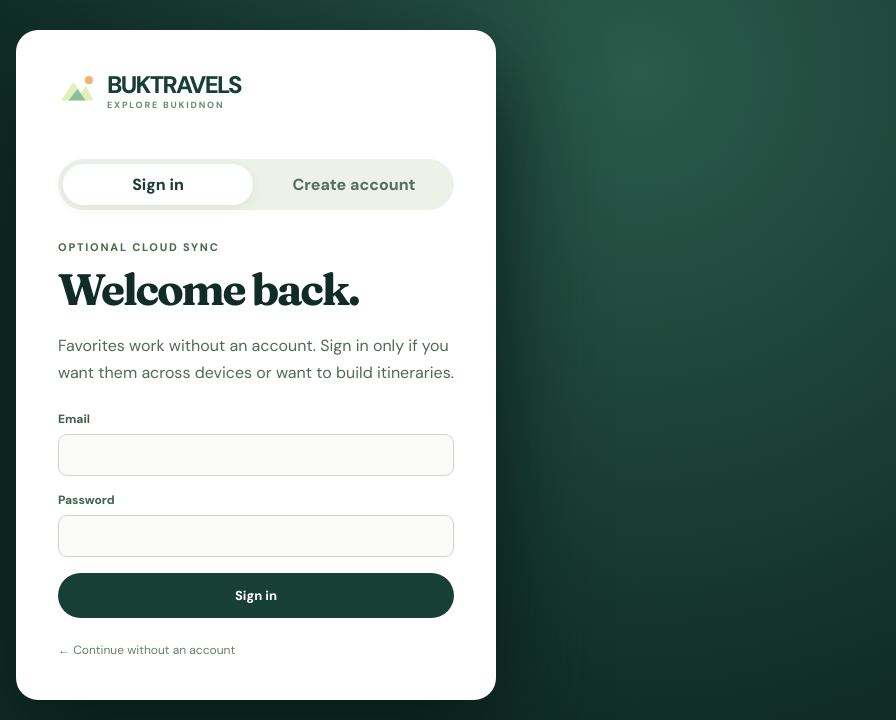
Test: traveler account › keeps account creation optional and explains cloud sync
Expected: the text "Favorites work without an account" is shown, 58,335 -> 454,383
Click the button "Create account" at {"x": 354, "y": 184}, box 259,164 -> 449,205
(page scrolled)
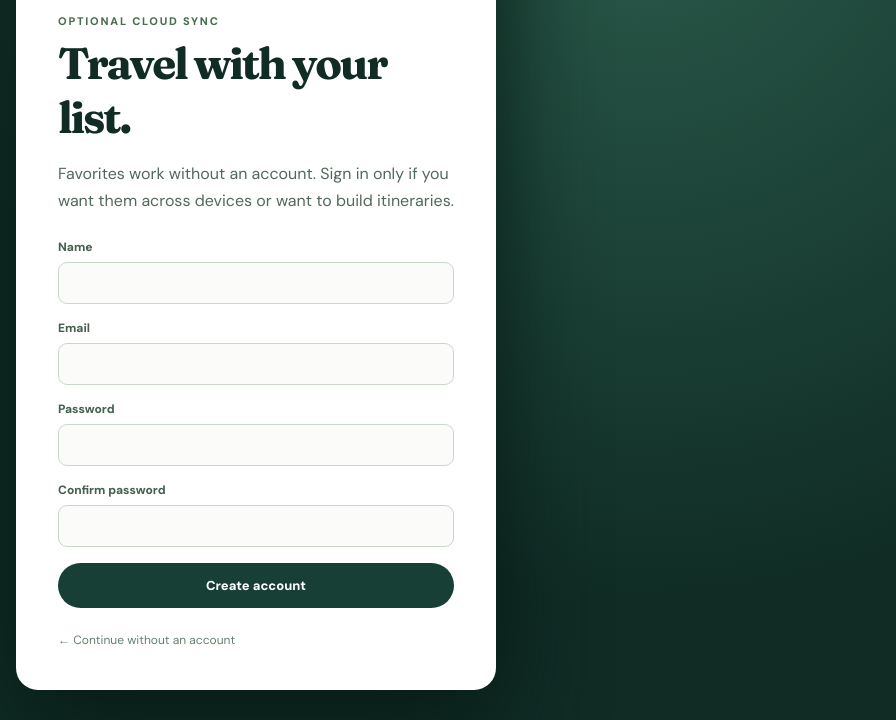
Now the heading "Travel with your list." is shown, box 58,36 -> 386,144
Now the password field labelled "Confirm password" is shown, box 58,505 -> 454,547
